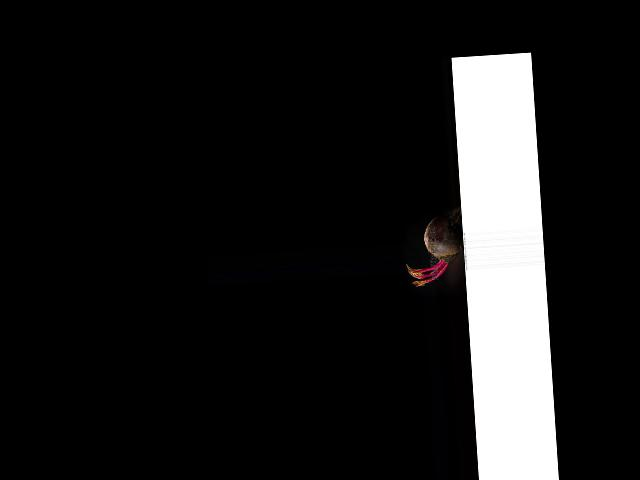beet: (402, 204, 466, 286)
